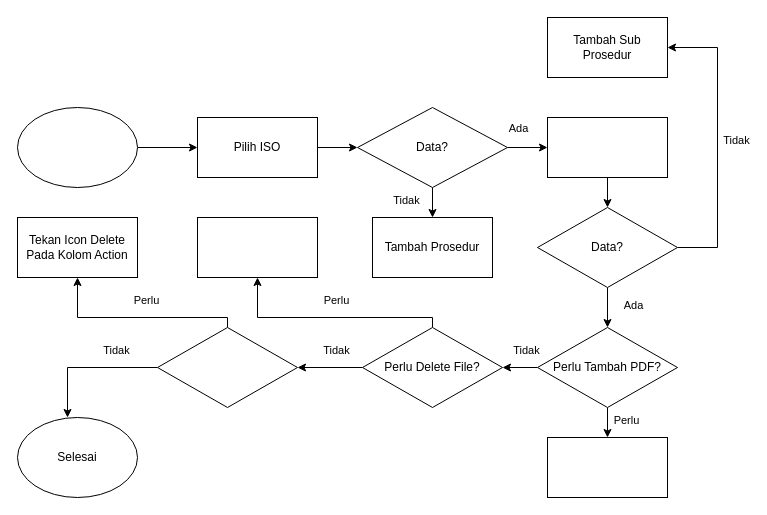
This 767x515 diagram has some shape labels left out. Each missing label, with the centre of its shape:
Mulai: (x=77, y=147)
Perlu Delete Sub Prosedur?: (x=227, y=367)
Tekan Icon Pensil Pada Kolom Action: (x=607, y=467)
Tekan Prosedur Untuk Melihat Sub Prosedur: (x=607, y=147)
Tekan Tombol DI bawah File: (x=257, y=247)
